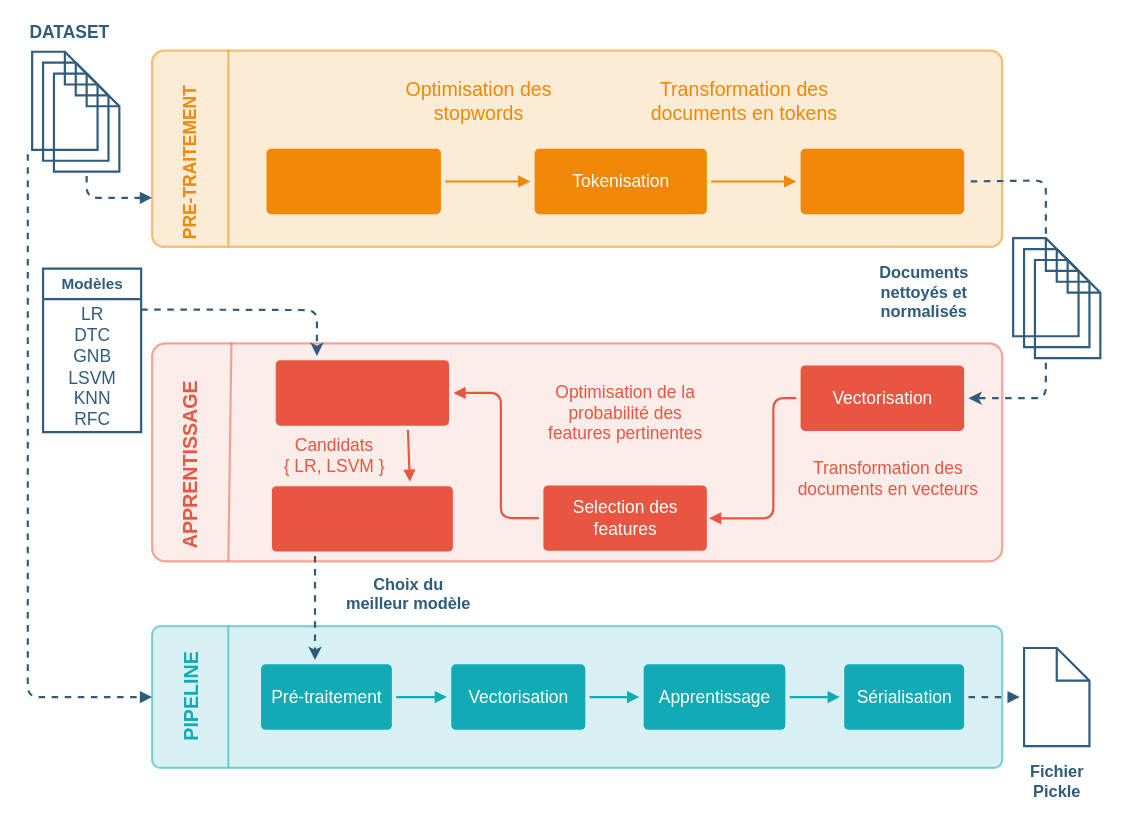
Some shapes in this 1126 by 821 pixel diagram are drawn without their labels. The shapes that lost their labels are listed below. From the top down, each one's centre as x and y in pixels, then its label:
point 353,181: Visualisation
point 882,181: Lemmatisation
point 362,392: Cross validation (10 partitions)
point 361,518: Calibrage des hyperparamètres
